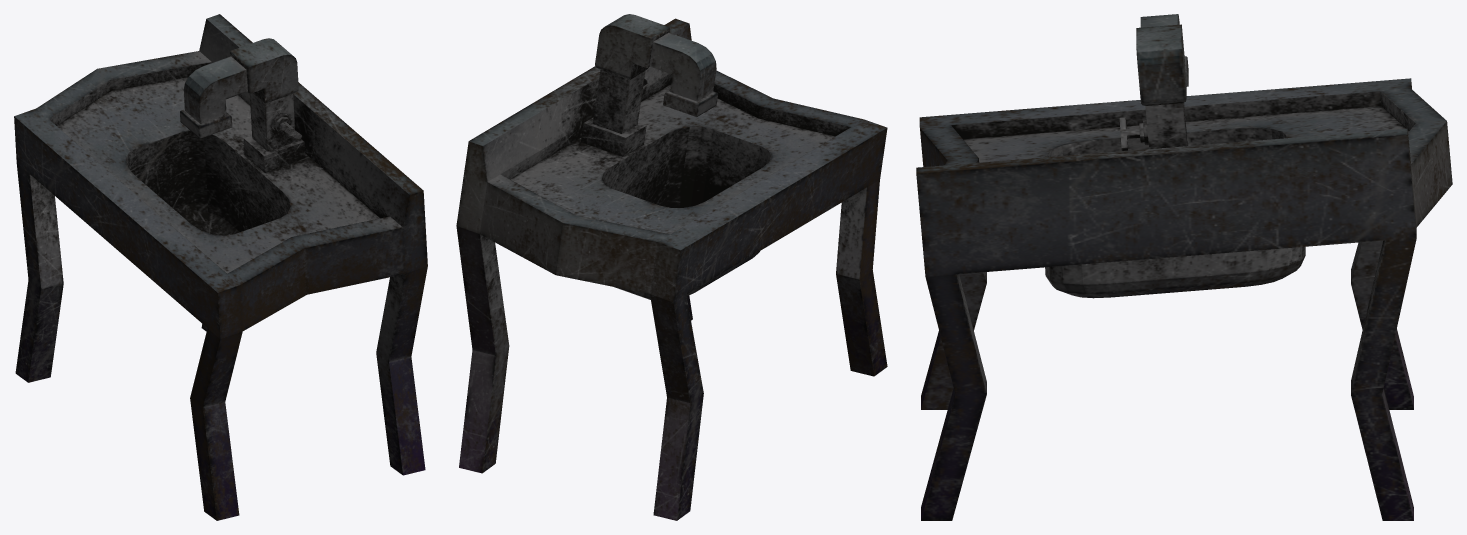
Rendered from Fregadero.glb.
3 renders of one model, left to right at view 1: azimuth 30°, elevation 25°; view 2: azimuth 150°, elevation 25°; view 3: azimuth 270°, elevation 25°, orthographic. The views are drawn at different scales.
Visible parts, largest first — view 1: Fregadero; view 2: Fregadero; view 3: Fregadero.
Part boxes in pixels (bbox=[...]): Fregadero: bbox=[14, 14, 427, 520]; Fregadero: bbox=[456, 14, 887, 520]; Fregadero: bbox=[916, 14, 1452, 520].
Bounding box in the file's own units: 0.8591 × 1.4 × 1.51.
1 material, 1 textured.
